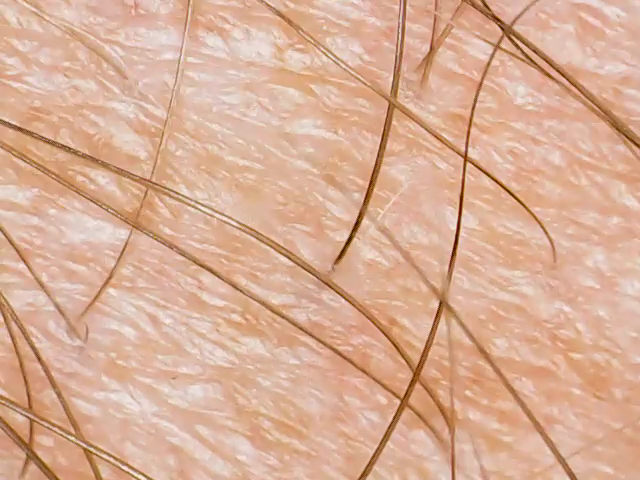folicle: (322, 250, 348, 278), (65, 323, 90, 350), (403, 58, 427, 84), (414, 70, 436, 95), (69, 306, 91, 330)
